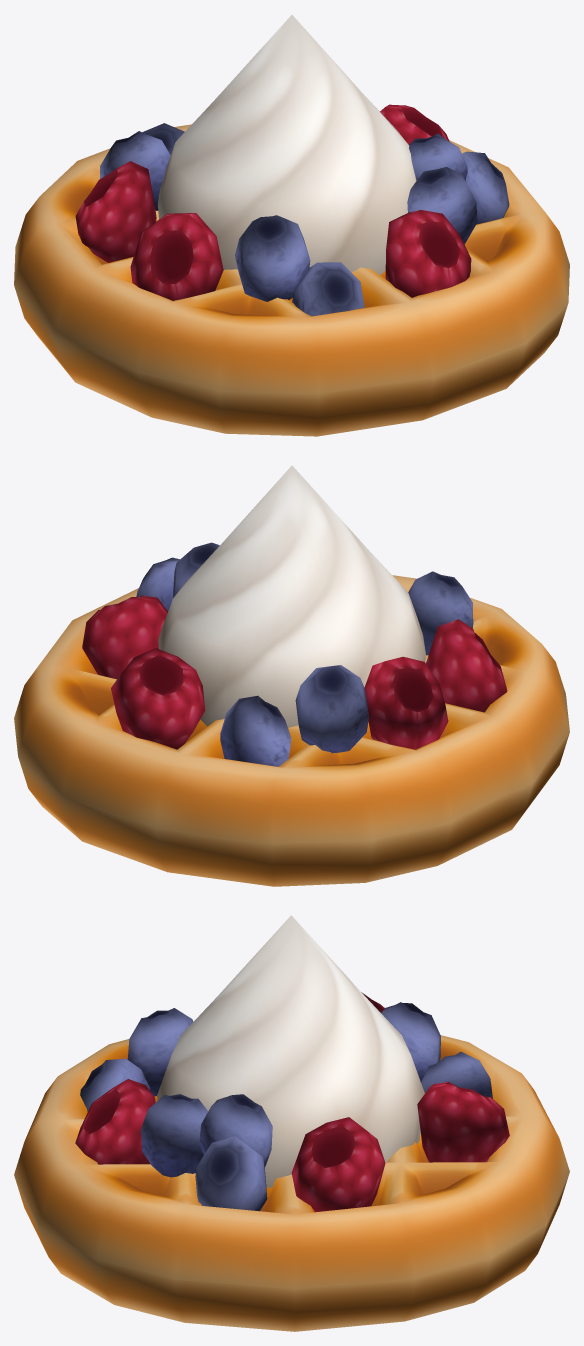
File: 009-Waffles06.FBX
3 views of the same model, one above another, from view 1: azimuth 30°, elevation 25°; view 2: azimuth 150°, elevation 25°; view 3: azimuth 270°, elevation 25° (orthographic).
Parts seen in each view (by area): view 1: 009-Waffles06; view 2: 009-Waffles06; view 3: 009-Waffles06.
Part boxes in pixels (<box>): 009-Waffles06: <box>14,15,569,436</box>; 009-Waffles06: <box>14,465,569,886</box>; 009-Waffles06: <box>14,915,569,1331</box>.
Size of the model in its own units: 18.5 by 11.69 by 18.75.
